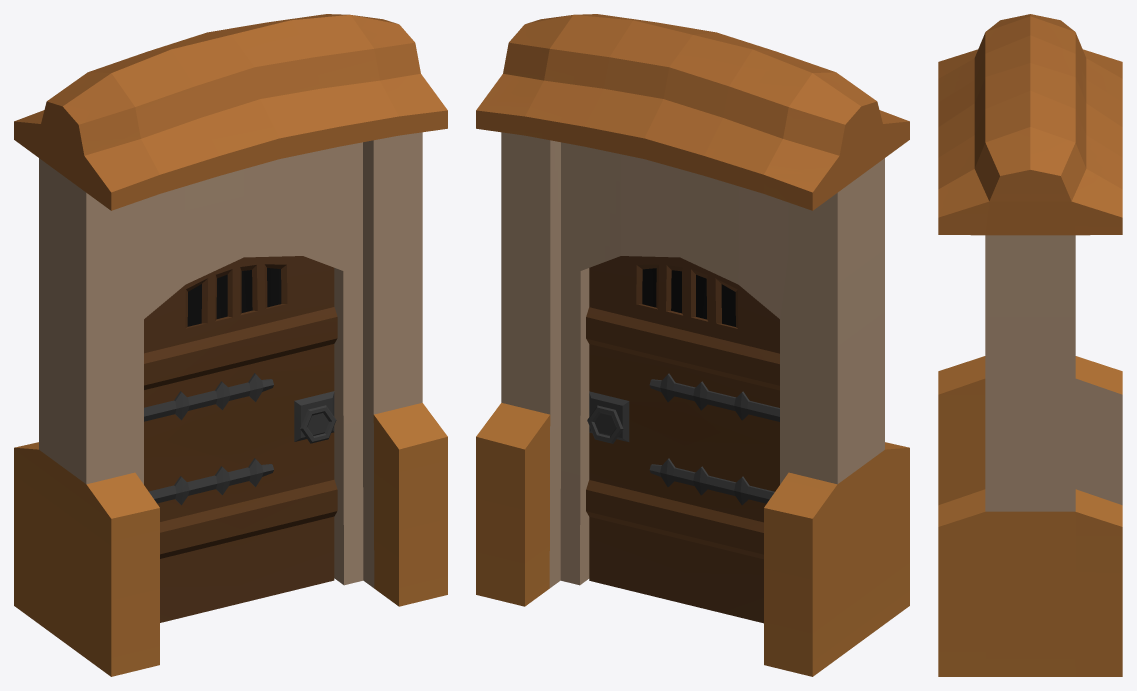
File: Door_archway_B.fbx
The picture shows the model from 3 angles, left to right: view 1: azimuth 30°, elevation 25°; view 2: azimuth 150°, elevation 25°; view 3: azimuth 270°, elevation 25°; orthographic projection. The views are drawn at different scales.
Visible parts, largest first — view 1: Door_archway_B, Door.002; view 2: Door_archway_B, Door.002; view 3: Door_archway_B.
Part boxes in pixels (x1,y1,x2,y2): Door_archway_B: (14, 14, 447, 676); Door.002: (144, 256, 337, 622); Door_archway_B: (476, 14, 909, 676); Door.002: (586, 256, 779, 623); Door_archway_B: (938, 14, 1122, 676).
Bounding box in the file's own units: 200 × 321 × 100.
